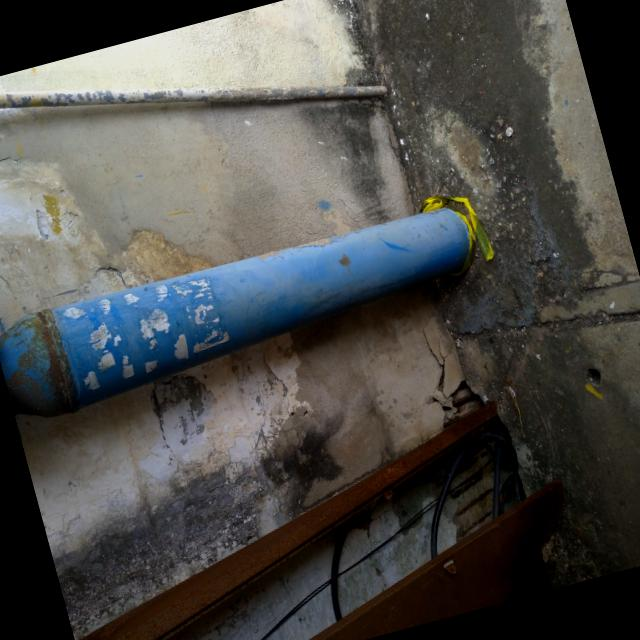gas: (0, 207, 461, 422)
